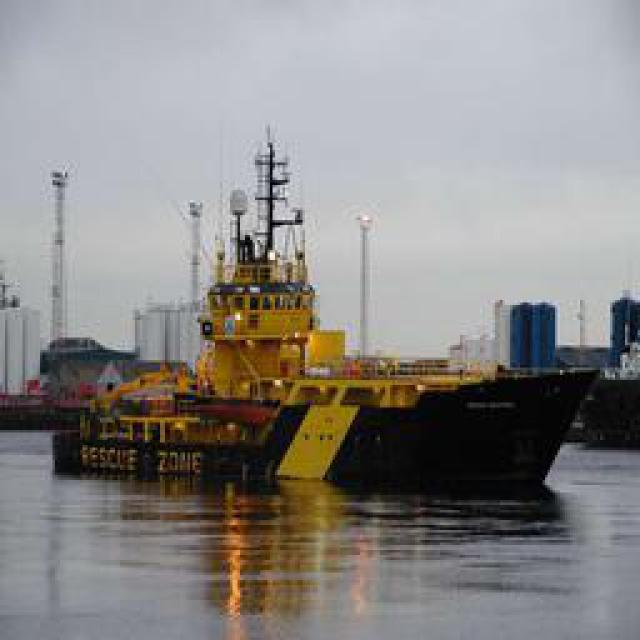Ship: (141, 117, 609, 465)
